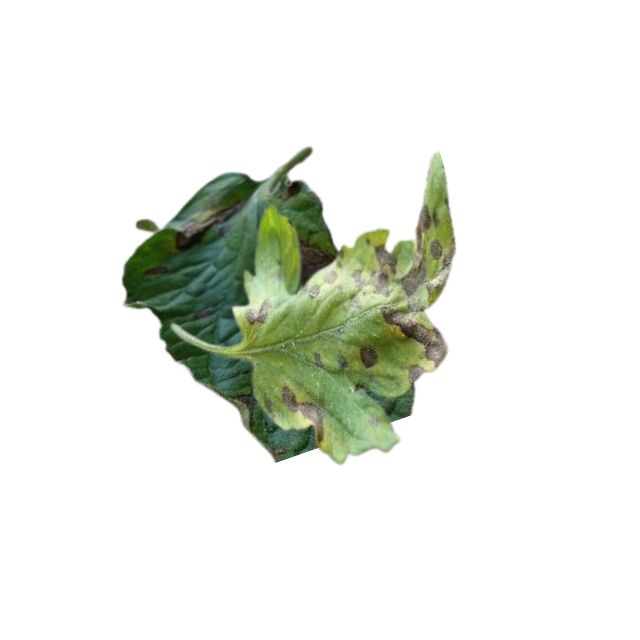Early_blight: (368, 204, 455, 383), (174, 190, 243, 257), (277, 384, 325, 444), (294, 240, 333, 292), (242, 294, 272, 326), (358, 345, 378, 370)
